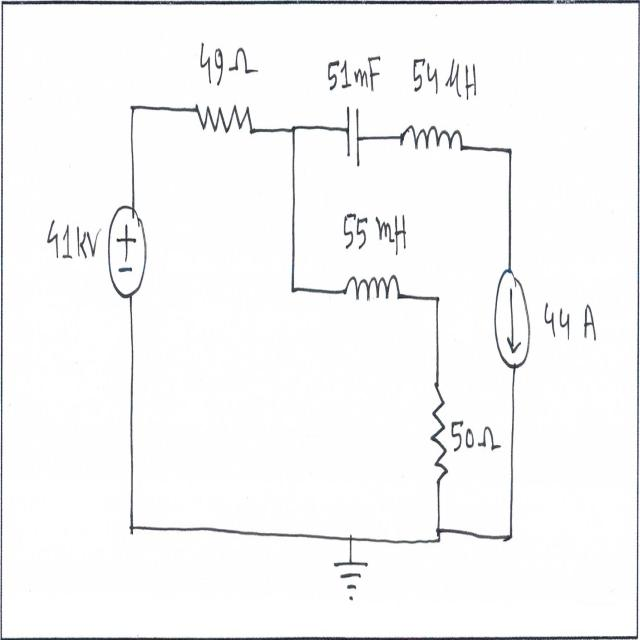capacitor: (343, 103, 364, 167)
current_source: (492, 266, 534, 378)
ground: (330, 556, 375, 611)
inductor: (340, 263, 403, 312), (394, 123, 466, 162)
resistor: (190, 92, 256, 143), (431, 372, 451, 500)
voltage_source: (104, 196, 152, 308)
